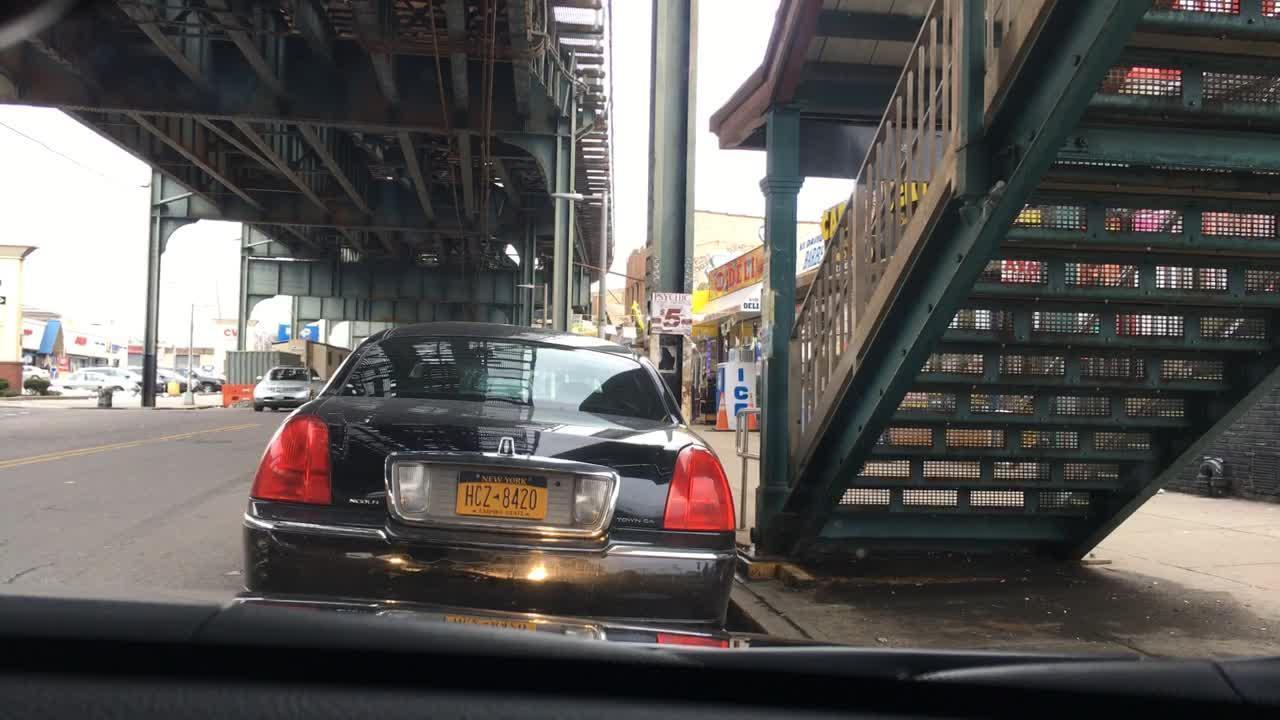lincoln: (495, 432, 523, 463)
